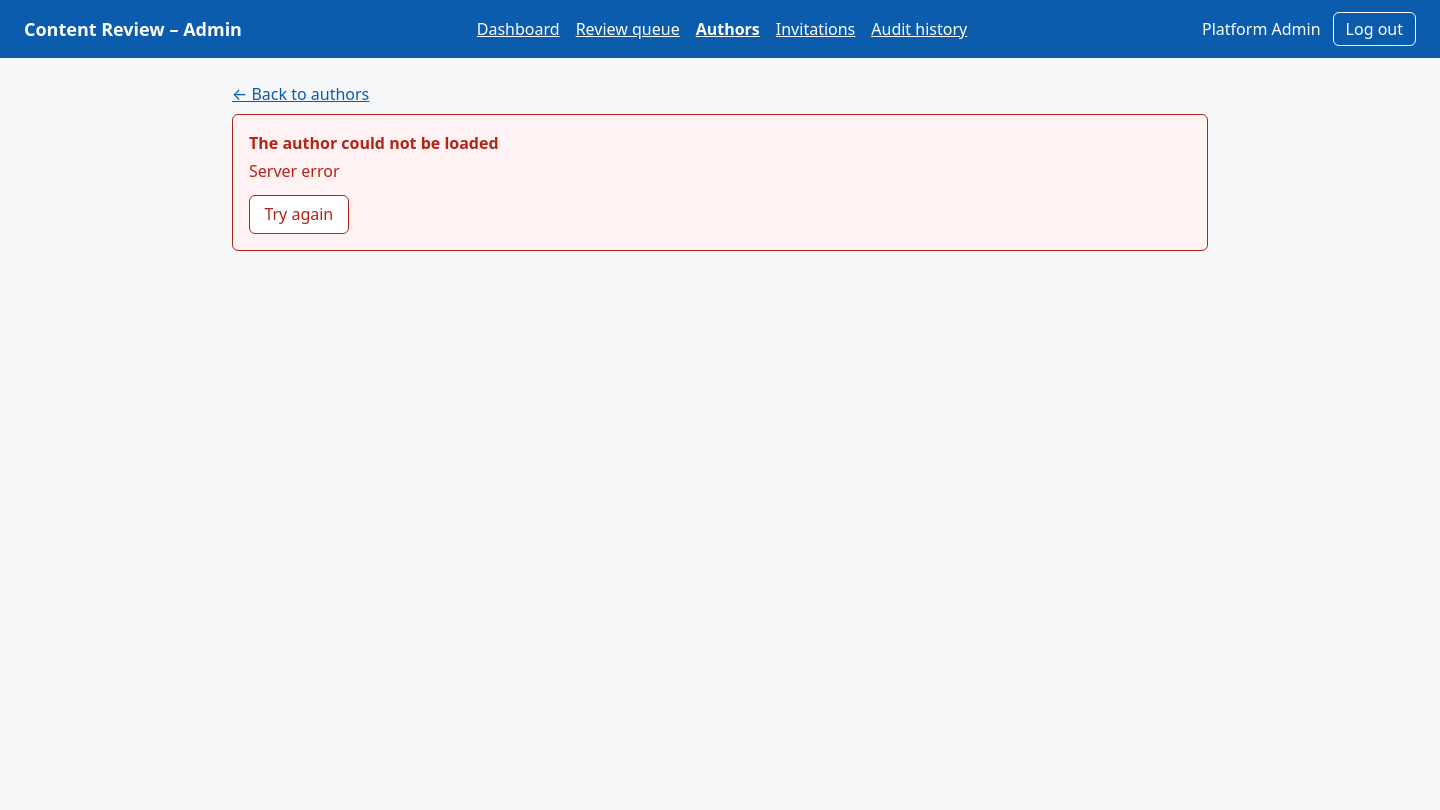
author detail › shows an error with a retry for other failures
Expected: the message shows "The author could not be loaded", [249,132,499,154]
Click the button "Try again": (299, 214) [249,195,349,234]
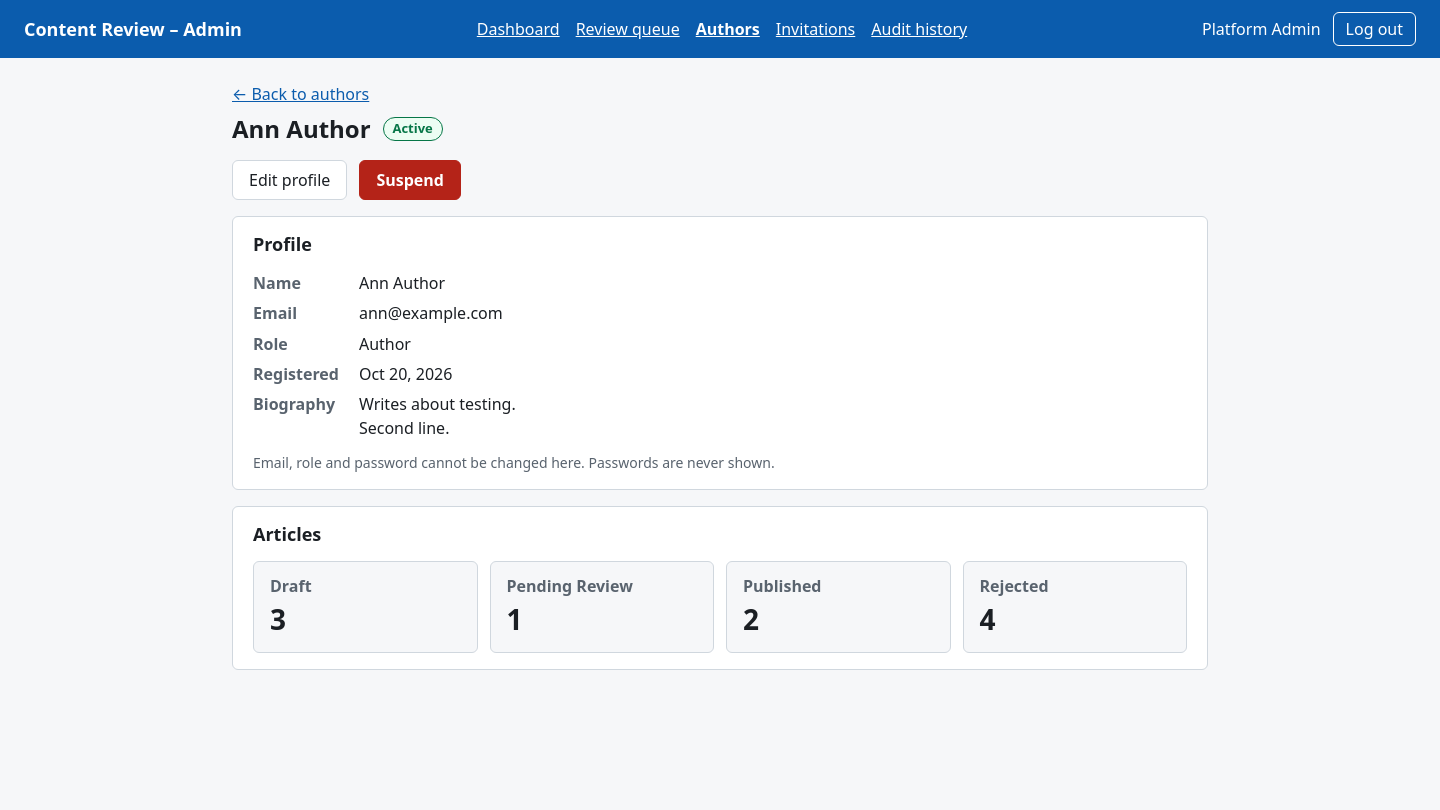
Result: the heading "Ann Author" is shown at [232,114,371,144]
